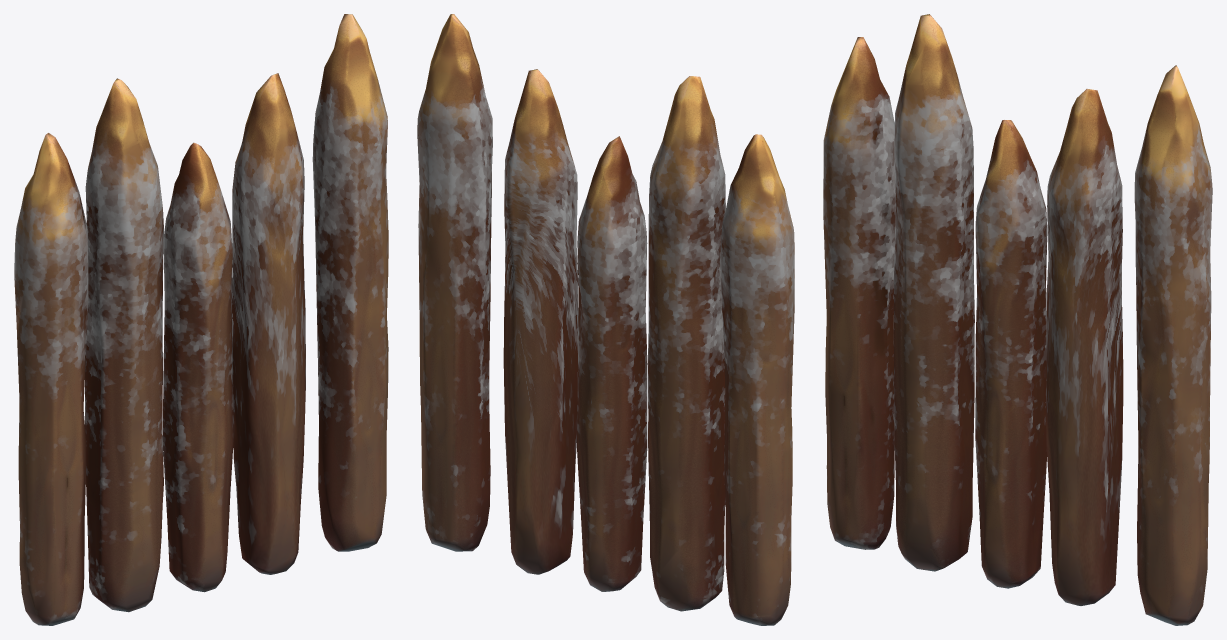
The model's file is fenceB.glb.
The picture shows the model from 3 angles, left to right: view 1: azimuth 30°, elevation 25°; view 2: azimuth 150°, elevation 25°; view 3: azimuth 330°, elevation 25°; orthographic projection. The views are drawn at different scales.
Visible parts, largest first — view 1: fenceB; view 2: fenceB; view 3: fenceB.
Boxes of the visible parts, left/top/right/bottom form: fenceB: left=14, top=14, right=388, bottom=625; fenceB: left=417, top=14, right=794, bottom=625; fenceB: left=823, top=14, right=1212, bottom=625.
Size of the model in its own units: 8 by 11.17 by 1.46.
1 material, 1 textured.
